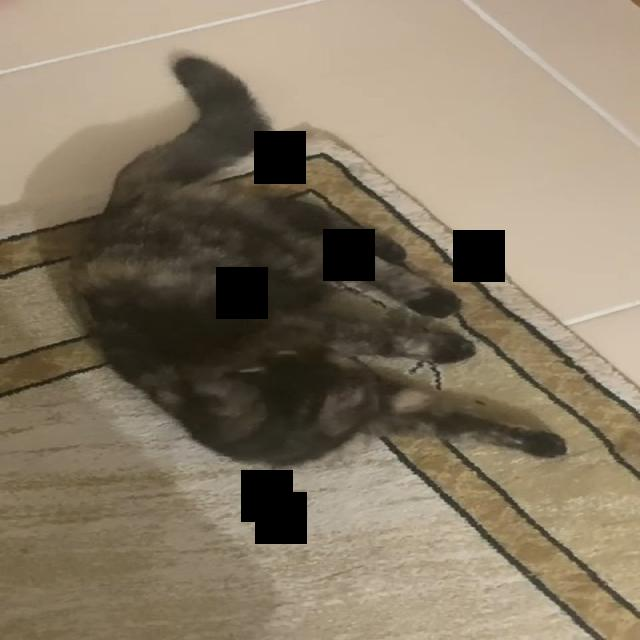authorized: (67, 51, 568, 469)
